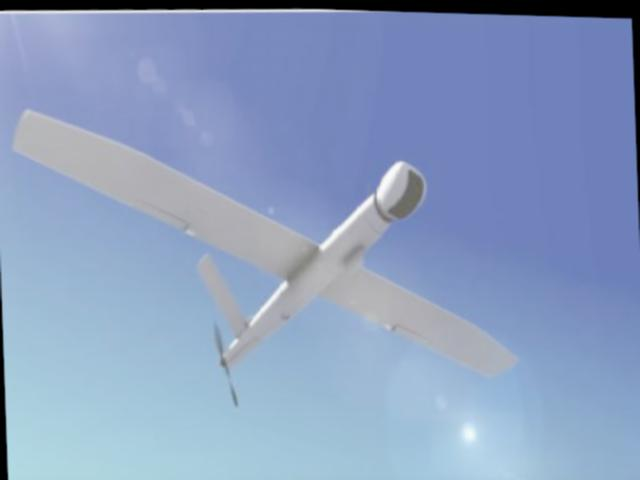uav: (9, 87, 522, 394)
